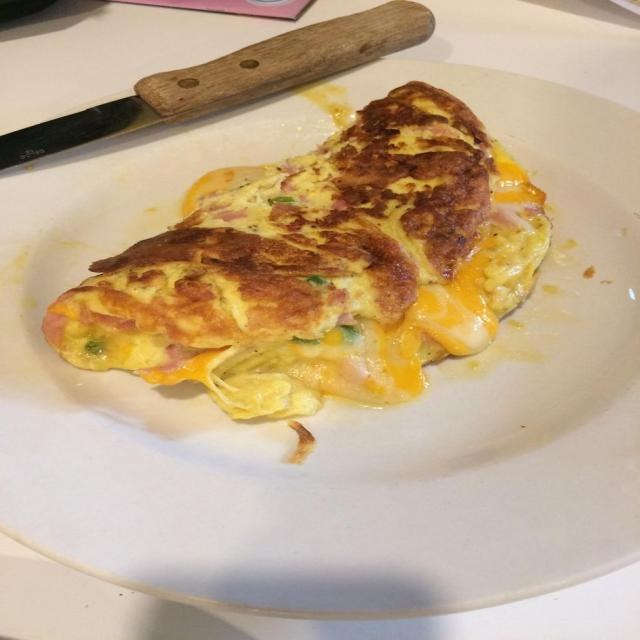omelette: (43, 82, 550, 418)
